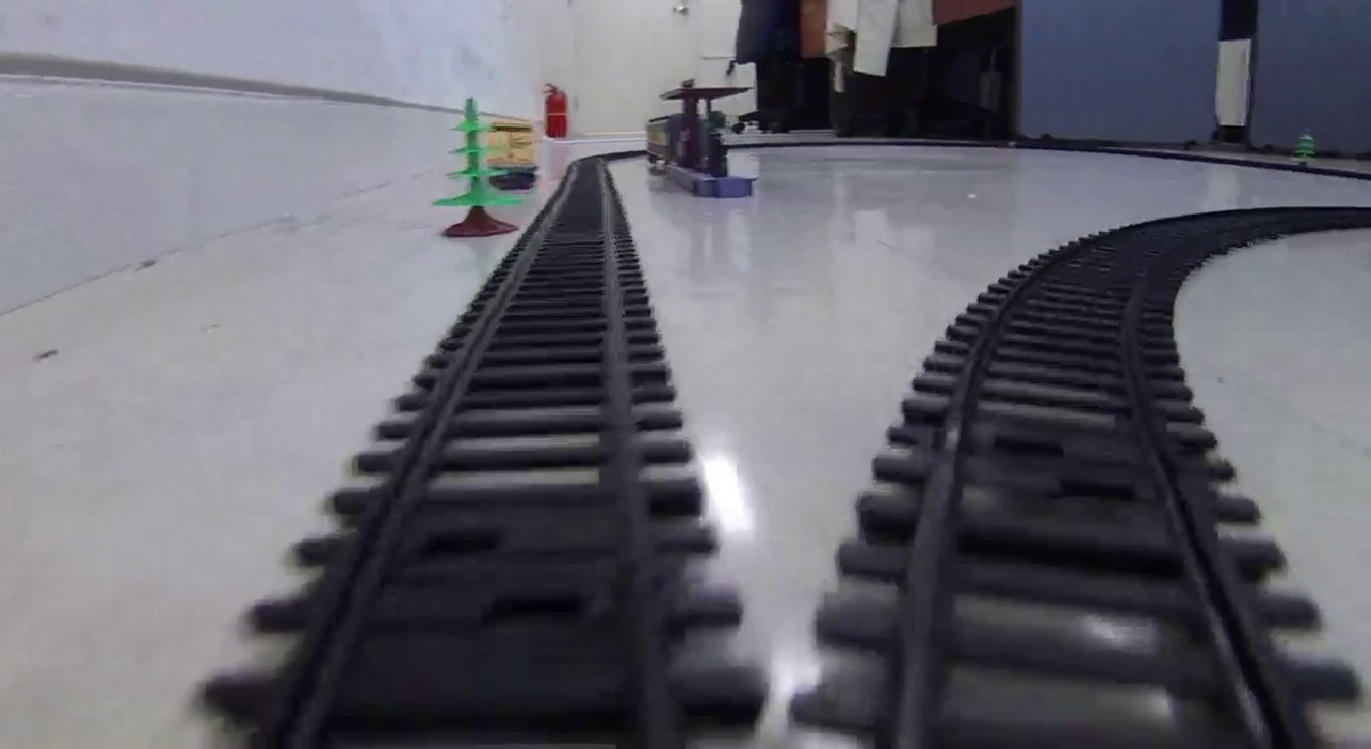tree: (432, 96, 525, 241)
